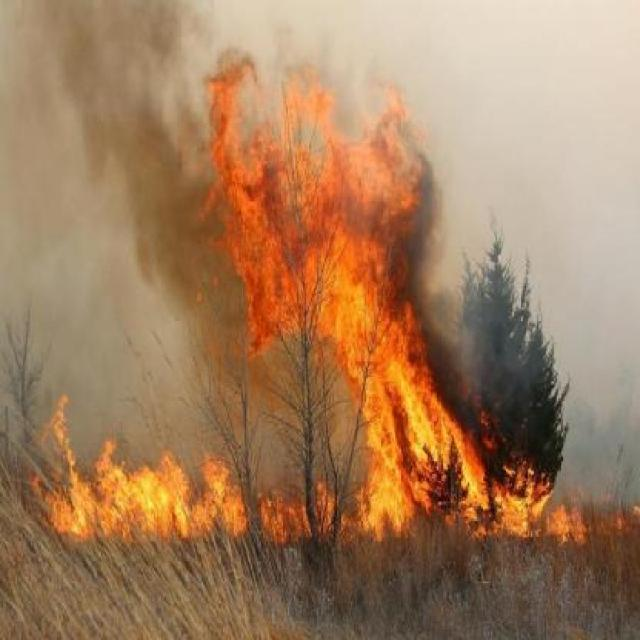Fire: (65, 51, 442, 528)
